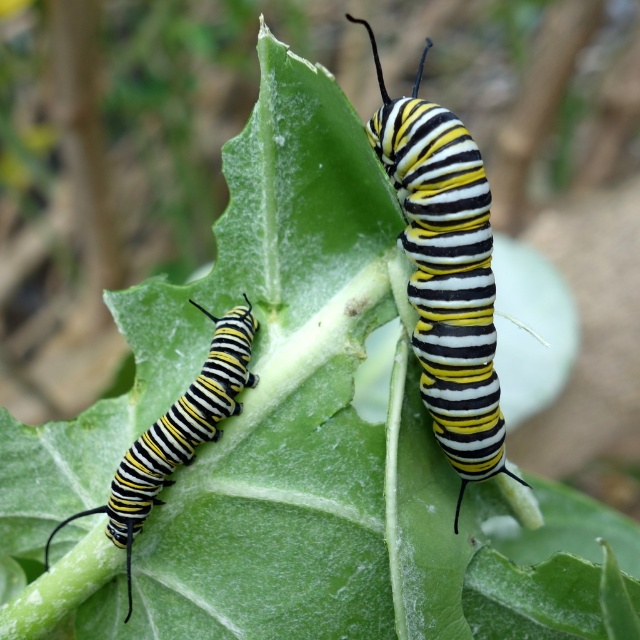Caterpillar: (343, 14, 536, 530), (46, 295, 260, 618)
